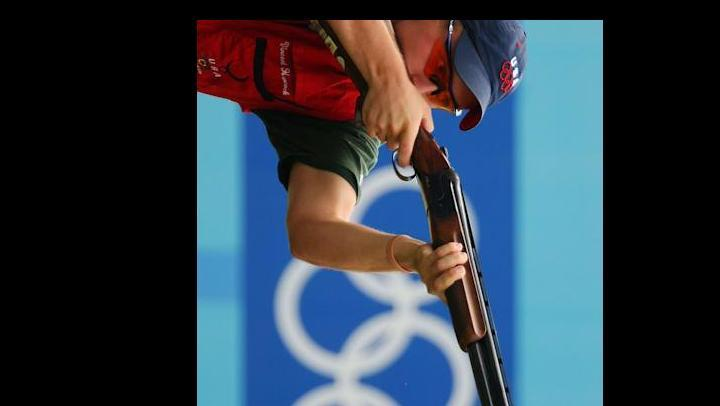larga: (307, 18, 511, 406)
